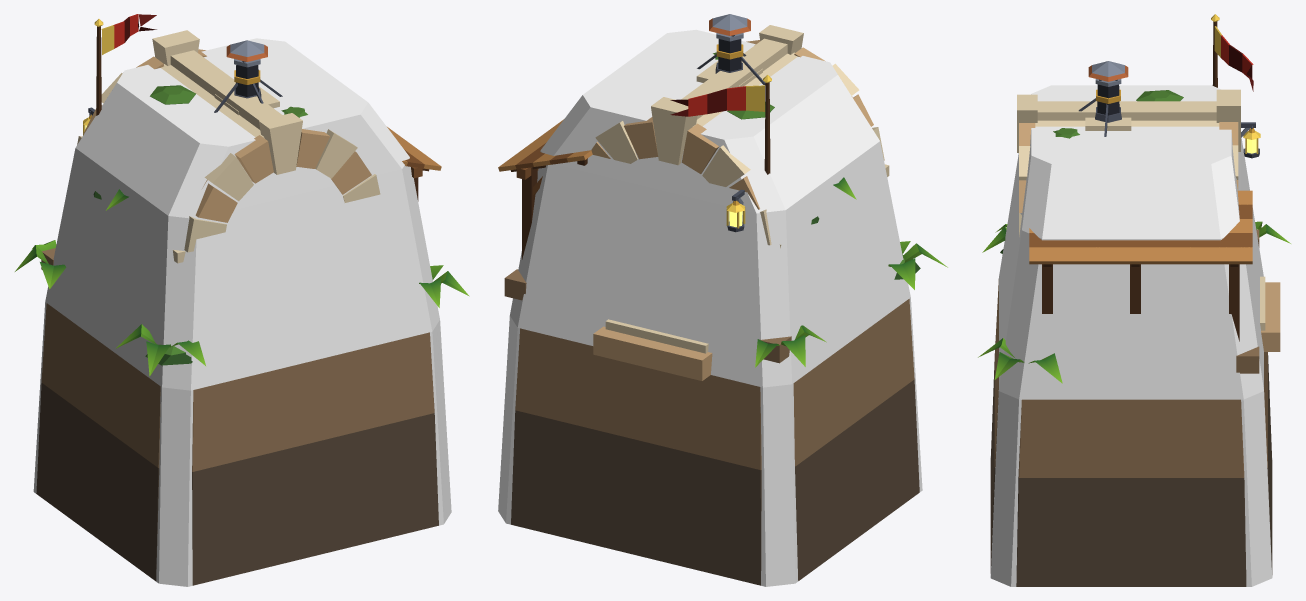
File: pirate_powder_magazine_bunker.glb
3 renders of one model, left to right at view 1: azimuth 30°, elevation 25°; view 2: azimuth 150°, elevation 25°; view 3: azimuth 270°, elevation 25°, orthographic. The views are drawn at different scales.
Parts seen in each view (by area): view 1: col_powderbunker_base, pirate_powder_magazine_bunker; view 2: pirate_powder_magazine_bunker, col_powderbunker_base; view 3: col_powderbunker_base, pirate_powder_magazine_bunker.
Part boxes in pixels (bbox=[...]): col_powderbunker_base: bbox=[33, 38, 451, 586]; pirate_powder_magazine_bunker: bbox=[15, 14, 469, 585]; pirate_powder_magazine_bunker: bbox=[498, 14, 947, 585]; col_powderbunker_base: bbox=[498, 29, 922, 586]; col_powderbunker_base: bbox=[990, 85, 1272, 586]; pirate_powder_magazine_bunker: bbox=[978, 14, 1290, 586].
Bounding box in the file's own units: 5.35 × 7.46 × 4.65.
